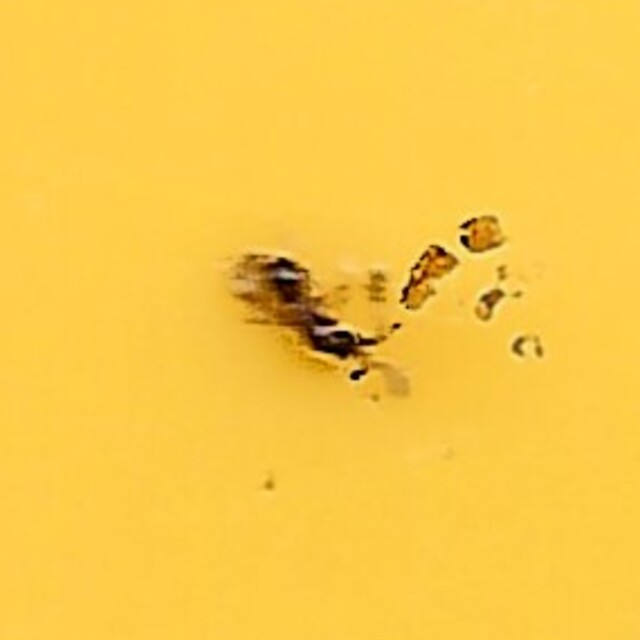Hymenoptera: (225, 245, 415, 395)
